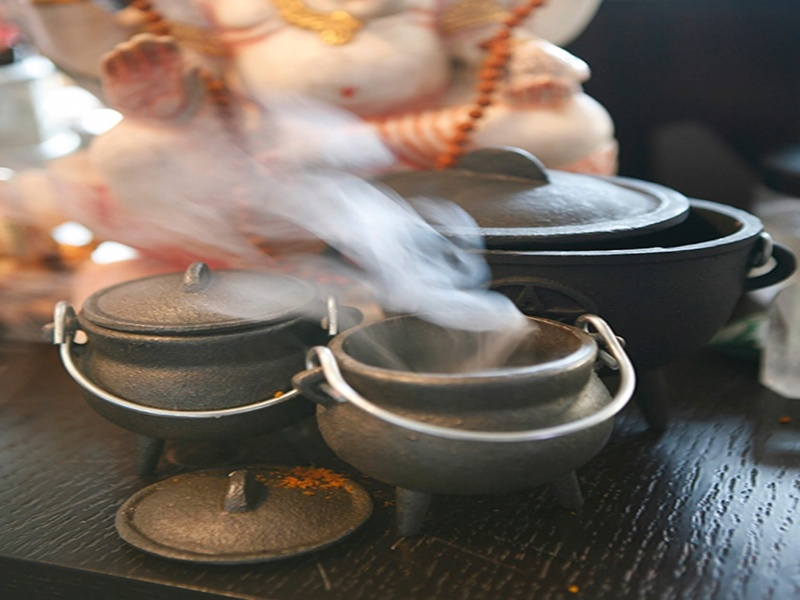smoke: (105, 109, 517, 368)
